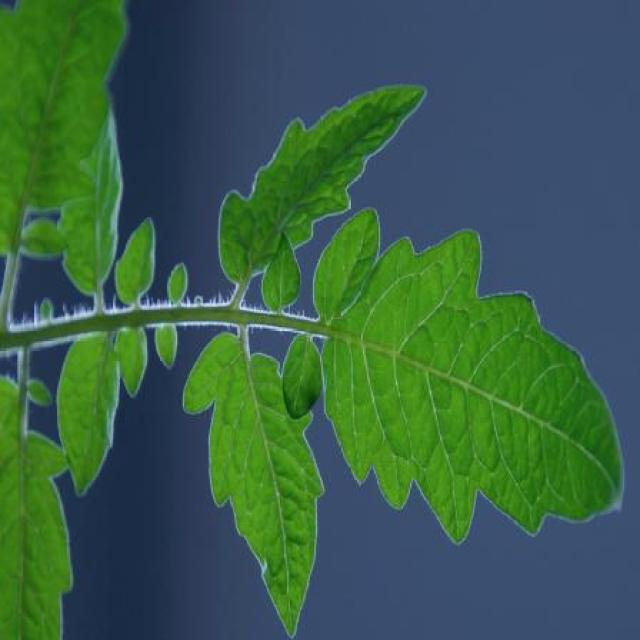Healthy: (313, 205, 628, 544), (182, 328, 327, 640), (217, 78, 426, 286), (55, 323, 118, 498)
